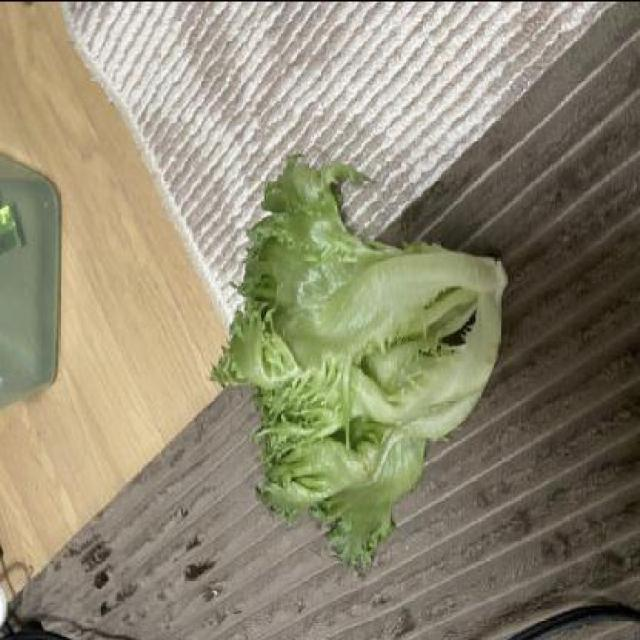Lettuce: (212, 149, 509, 569)
